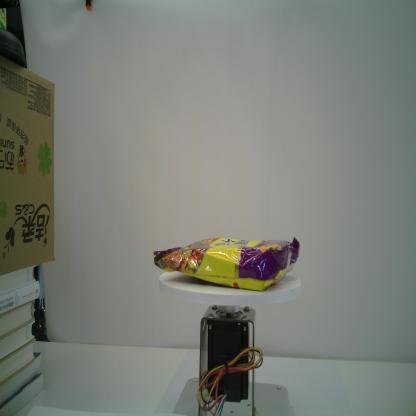Instant Noodles: (151, 235, 301, 293)
